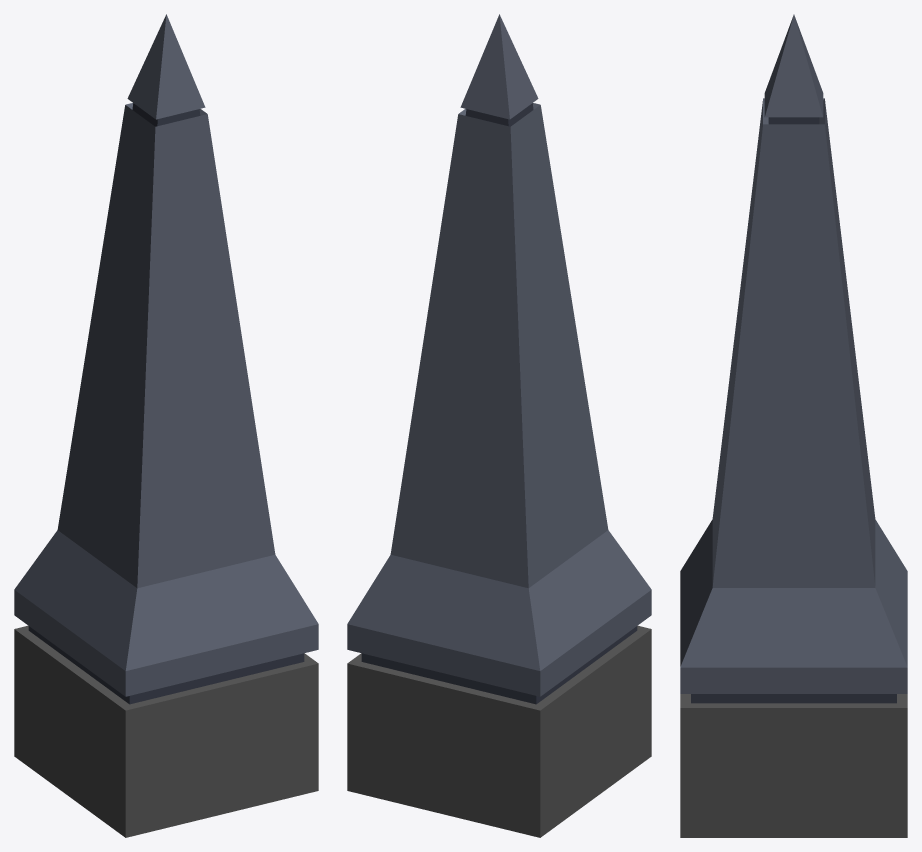
The model's file is Mesh_spiked_pillir.fbx.
3 views of the same model, side by side, from view 1: azimuth 30°, elevation 25°; view 2: azimuth 150°, elevation 25°; view 3: azimuth 270°, elevation 25° (orthographic). The views are drawn at different scales.
Parts seen in each view (by area): view 1: spiked_pillir; view 2: spiked_pillir; view 3: spiked_pillir.
Part boxes in pixels (<box>): spiked_pillir: <box>14,14,318,837</box>; spiked_pillir: <box>347,14,651,837</box>; spiked_pillir: <box>680,14,907,837</box>.
Bounding box in the file's own units: 103 × 388 × 103.
Materials: 1 (1 with a texture image).
